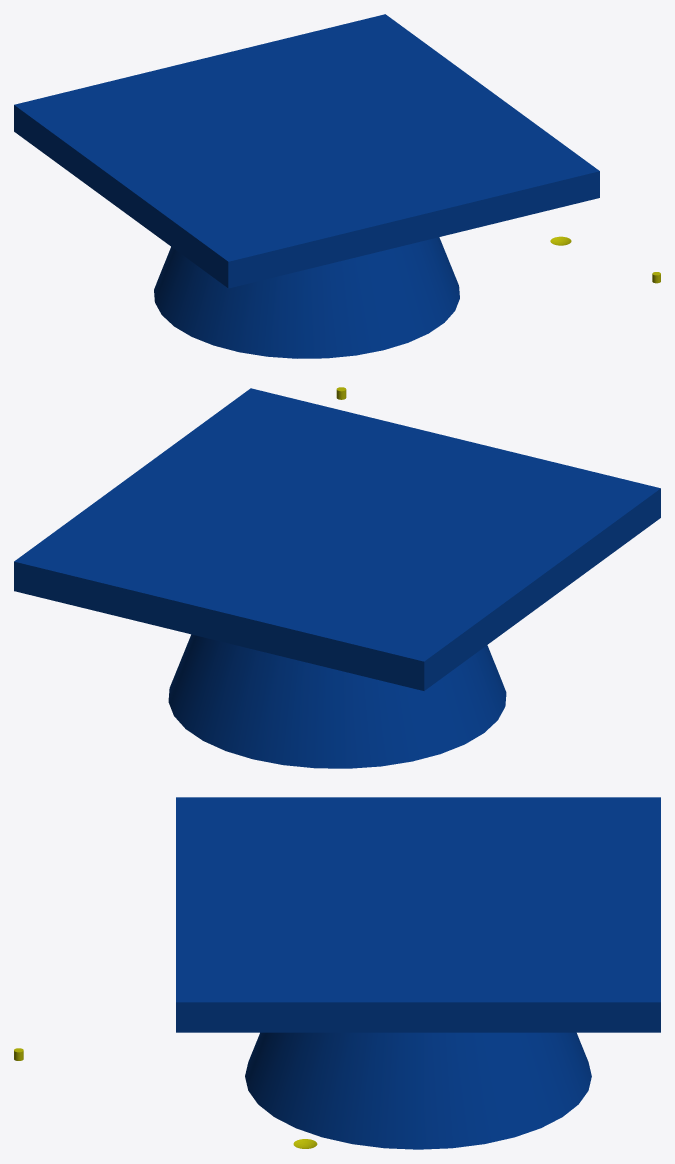
Rendered from college-hat.dae.
The picture shows the model from 3 angles, top to bottom: view 1: azimuth 30°, elevation 25°; view 2: azimuth 150°, elevation 25°; view 3: azimuth 270°, elevation 25°; orthographic projection. The views are drawn at different scales.
Parts seen in each view (by area): view 1: Plane, Circle; view 2: Plane, Circle; view 3: Plane, Circle.
Part boxes in pixels (x1,y1,x2,y2): Plane: [14, 14, 599, 288]; Circle: [154, 237, 459, 358]; Plane: [14, 388, 660, 690]; Circle: [168, 634, 506, 768]; Plane: [176, 797, 660, 1032]; Circle: [245, 1032, 591, 1149].
Size of the model in its own units: 4.77 by 5.93 by 1.79.
